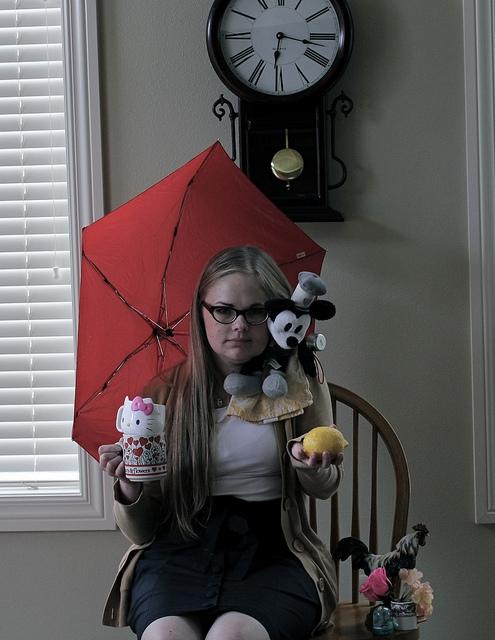lemon: (302, 426, 349, 462)
